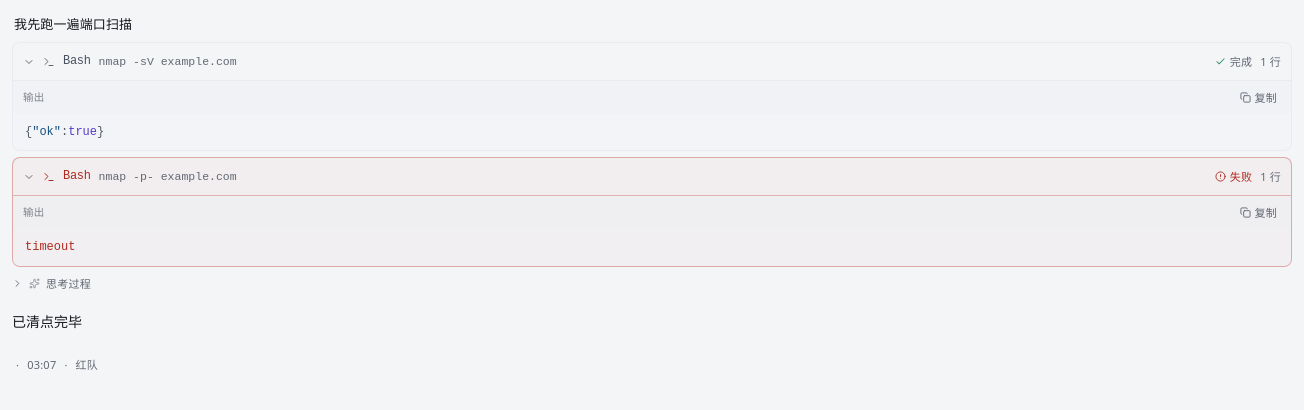
it: AssistantTurn — 最终答复是纯文本 › ★ 结论可见、不是气泡皮，且过程排在结论之前
The width and height of the screenshot is (1304, 410).
Check: the text "已清点完毕" is shown, box [12, 312, 82, 331]
Check: the text "先看端口，再下结论" is not shown
Click the button "思考过程" at (51, 284), box [12, 273, 91, 295]
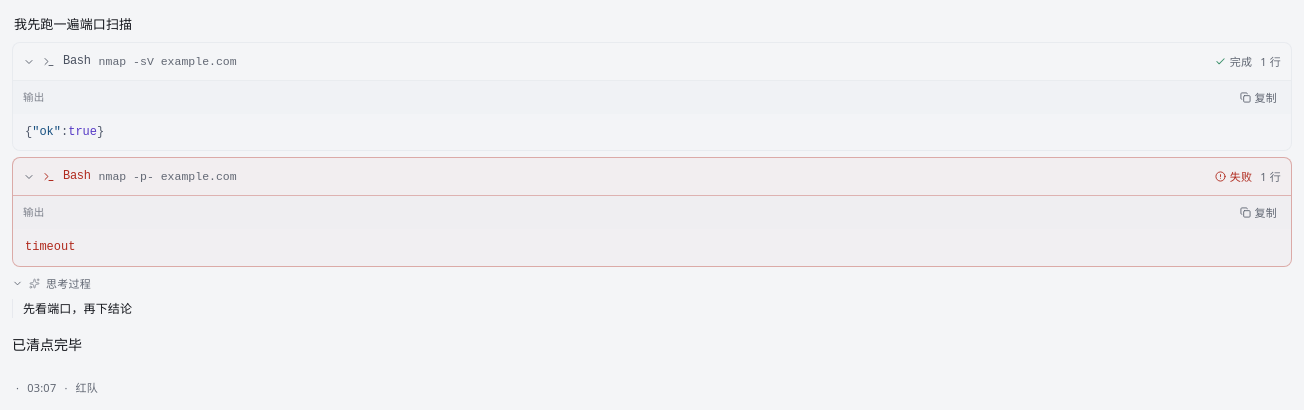
Check: the button "思考过程" is expanded, box [12, 273, 91, 295]
Check: the text "先看端口，再下结论" is shown, box [12, 299, 1292, 318]
